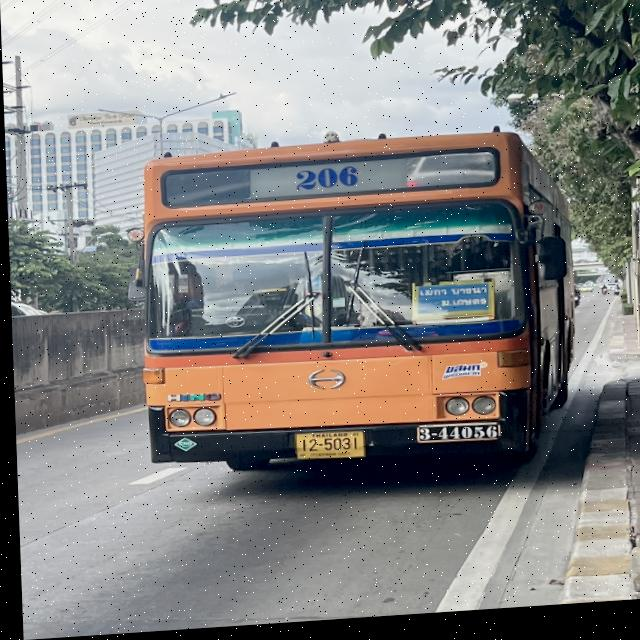BMTA-bus: (135, 129, 582, 492)
Bus-Line-Number: (280, 166, 368, 199)
Destination-Sign-Normal: (417, 290, 486, 320)
